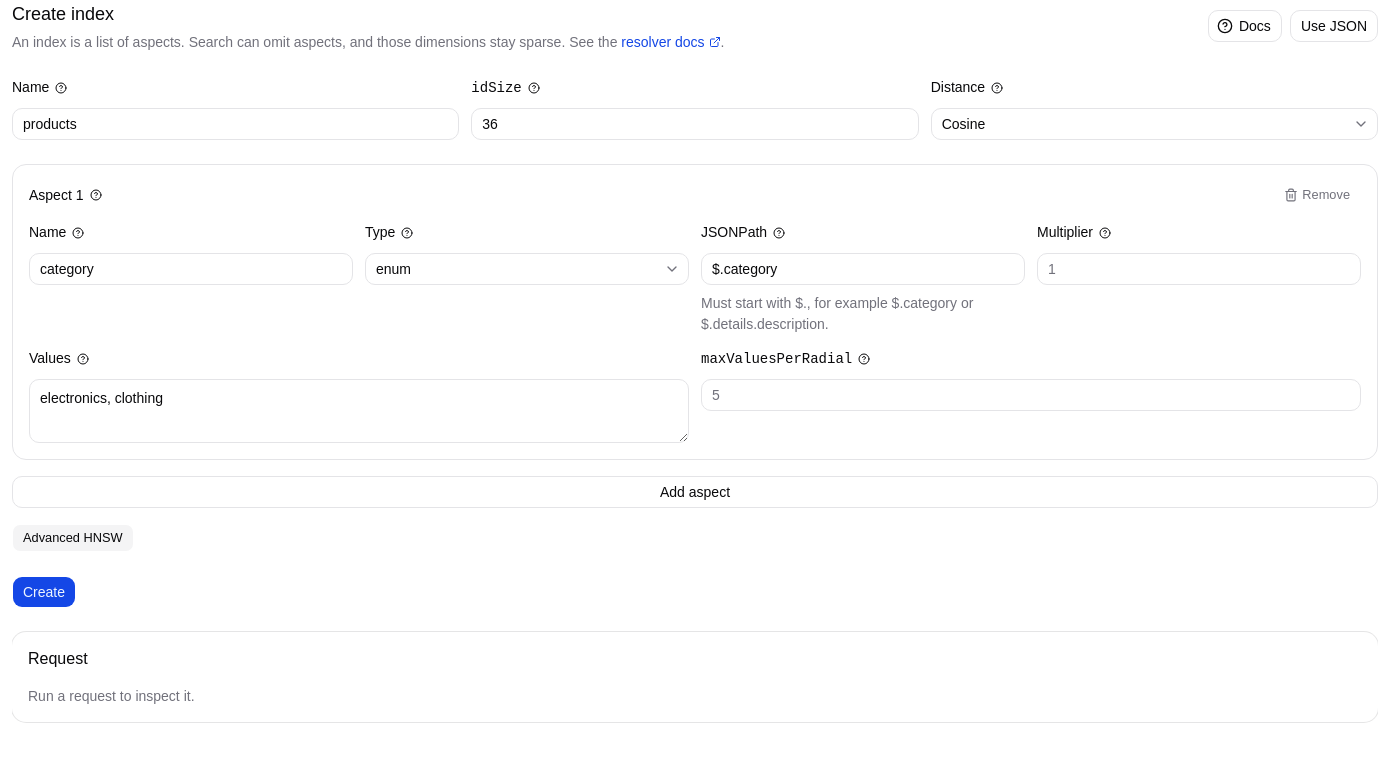
CreateIndexPage › shows an inline error when submitting with a blank index name
Clear the field with id "index-name". click: (236, 124)
box: [12,108,459,140]
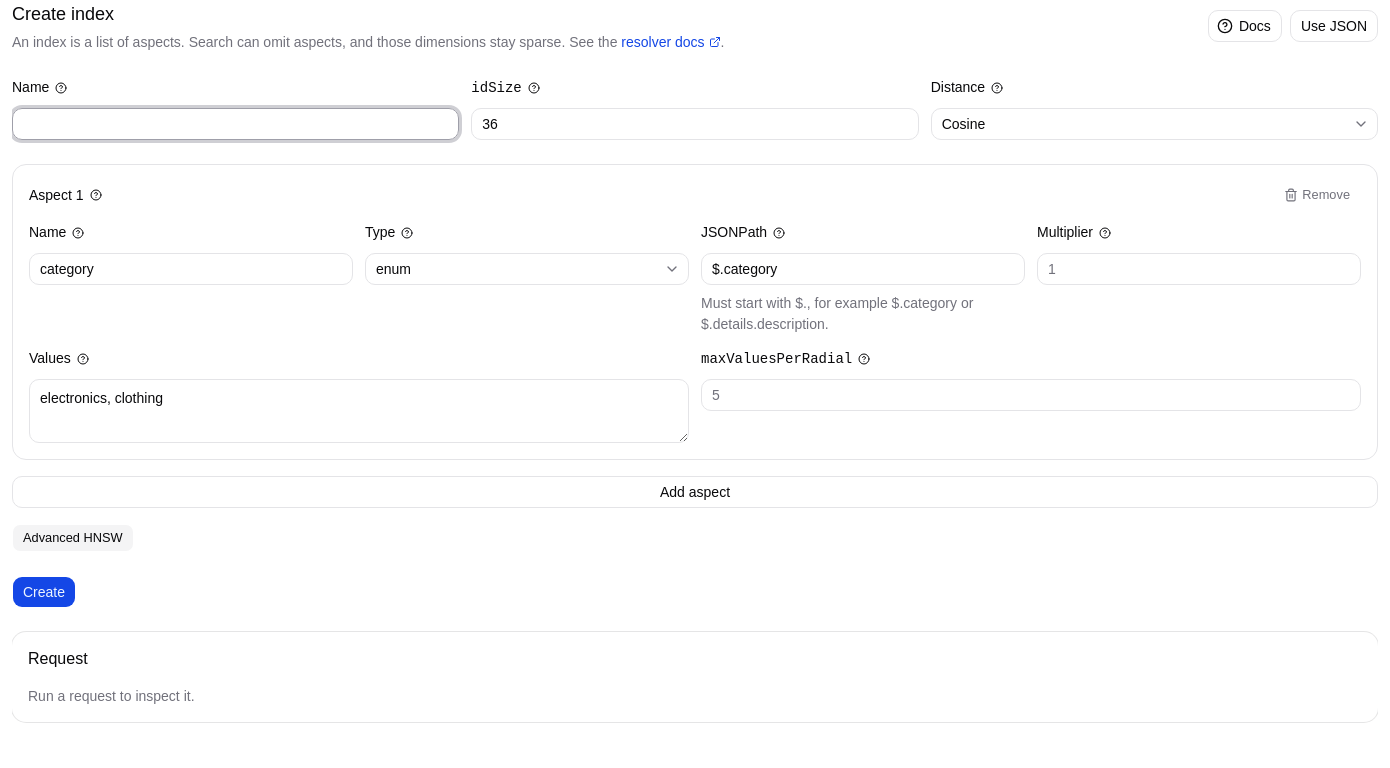
Click the button "Create". click: click(44, 592)
box: [12,576,76,608]
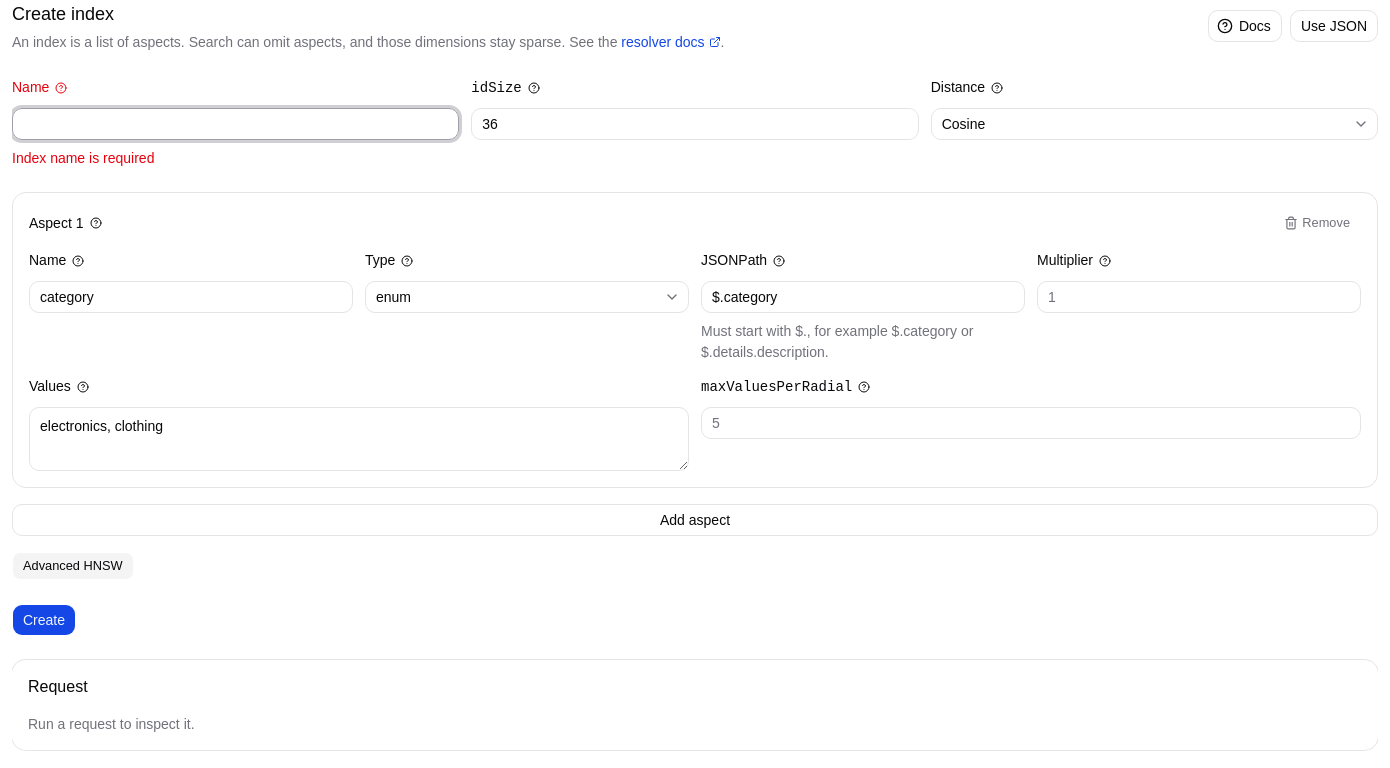
Expected: the text "Index name is required" is shown, [12,150,154,166]
